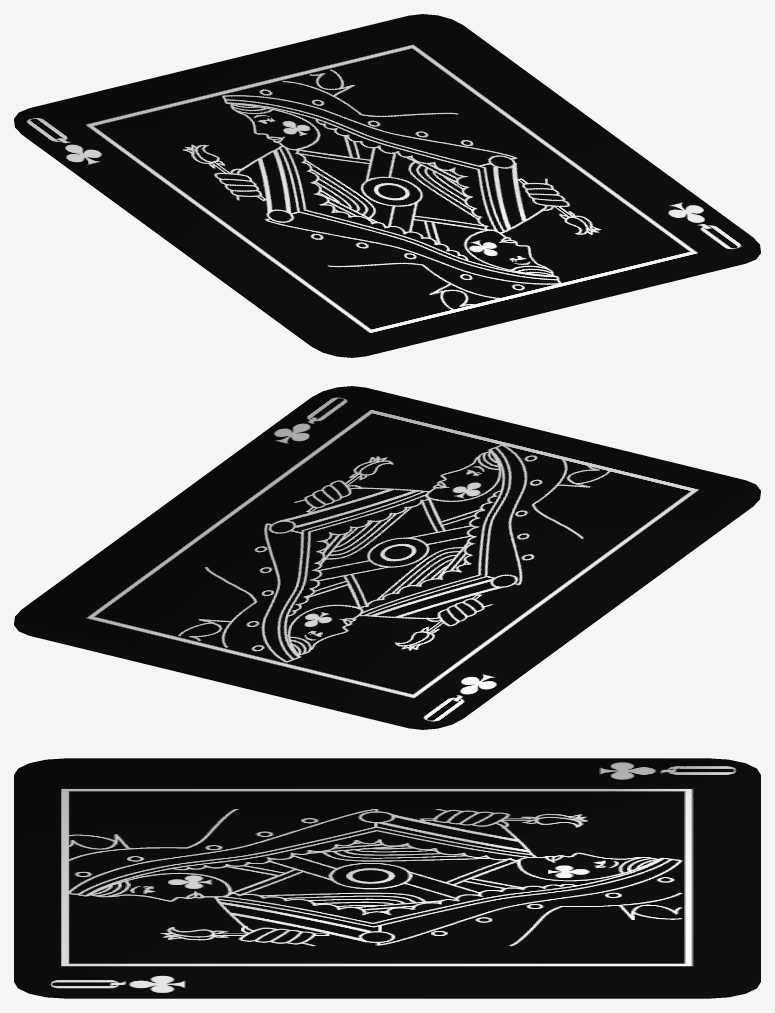
The model's file is Dame_de_trèfle.gltf.
The picture shows the model from 3 angles, top to bottom: view 1: azimuth 30°, elevation 25°; view 2: azimuth 150°, elevation 25°; view 3: azimuth 270°, elevation 25°; orthographic projection. The views are drawn at different scales.
Visible parts, largest first — view 1: Plane.001; view 2: Plane.001; view 3: Plane.001.
Boxes of the visible parts, box(x1,y1,x2,y2) form: Plane.001: box(14, 14, 760, 357); Plane.001: box(14, 386, 760, 729); Plane.001: box(14, 758, 760, 998).
Size of the model in its own units: 3.59 by 0.01 by 4.74.
2 materials, 2 textured.
